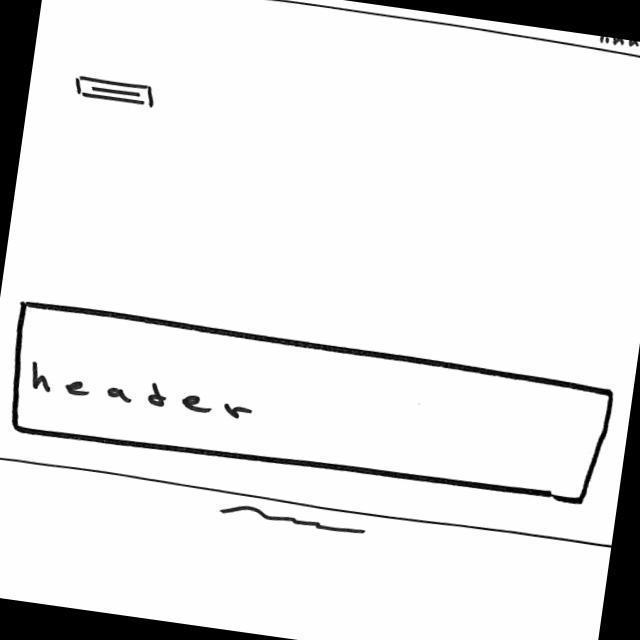container: (3, 299, 619, 514), (46, 1, 640, 65)
icon-button: (70, 75, 161, 111)
label: (25, 361, 255, 423), (593, 36, 640, 51)
text: (221, 503, 371, 541)
